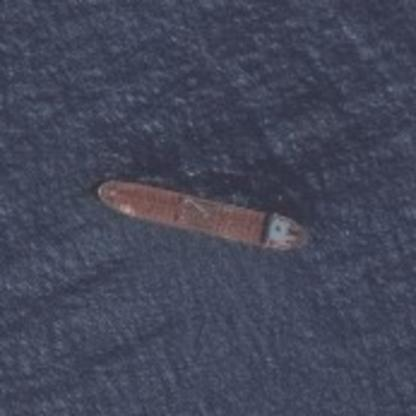ship: (81, 169, 320, 256)
